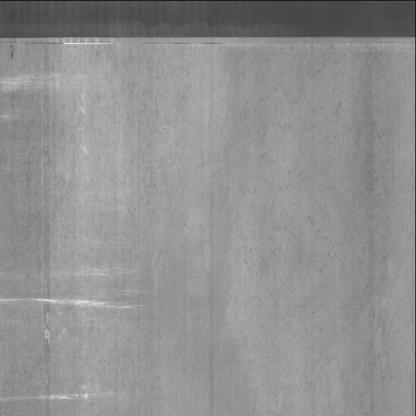welding_line: (1, 19, 416, 53)
